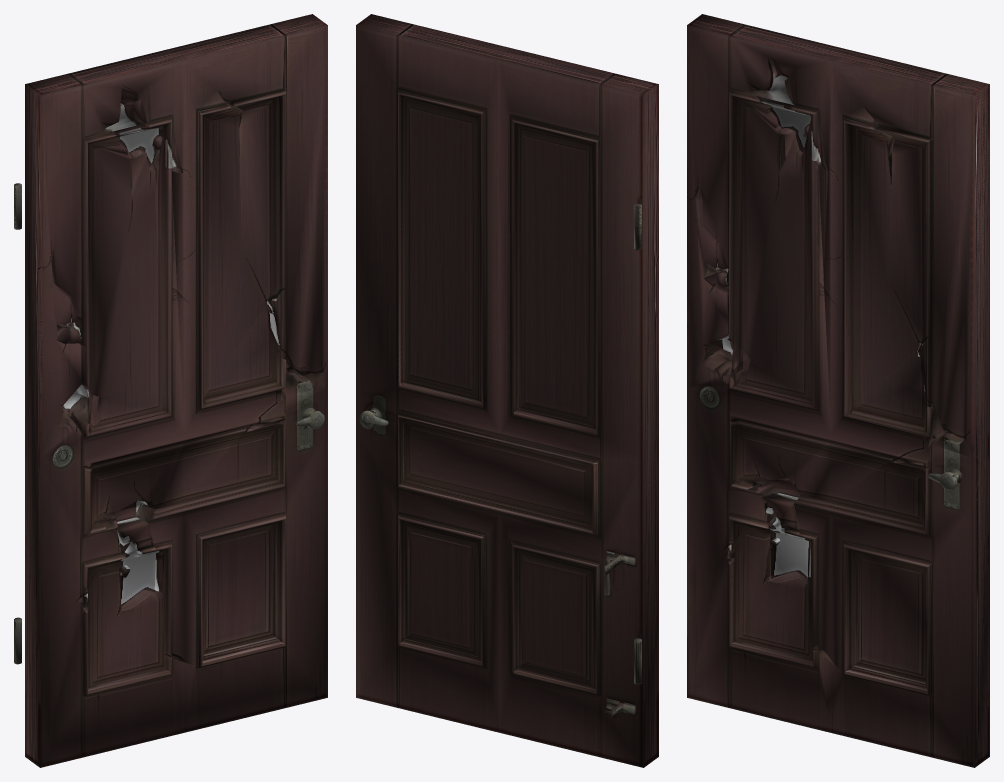
File: damaged+door+3d+model.glb
The picture shows the model from 3 angles, left to right: view 1: azimuth 30°, elevation 25°; view 2: azimuth 150°, elevation 25°; view 3: azimuth 330°, elevation 25°; orthographic projection.
Visible parts, largest first — view 1: tripo_node_aa822903-02a1-4a14-8cb7-93321181f952; view 2: tripo_node_aa822903-02a1-4a14-8cb7-93321181f952; view 3: tripo_node_aa822903-02a1-4a14-8cb7-93321181f952.
Boxes of the visible parts, left/top/right/bottom form: tripo_node_aa822903-02a1-4a14-8cb7-93321181f952: left=14, top=14, right=327, bottom=767; tripo_node_aa822903-02a1-4a14-8cb7-93321181f952: left=356, top=14, right=658, bottom=767; tripo_node_aa822903-02a1-4a14-8cb7-93321181f952: left=687, top=14, right=989, bottom=767.
Bounding box in the file's own units: 0.4536 × 0.9995 × 0.1108.
Materials: 1 (1 with a texture image).
